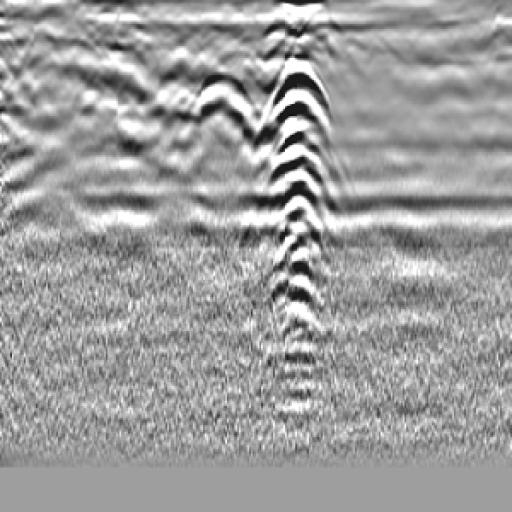metalic: (252, 21, 362, 416)
nonmetalic: (171, 47, 275, 177)
